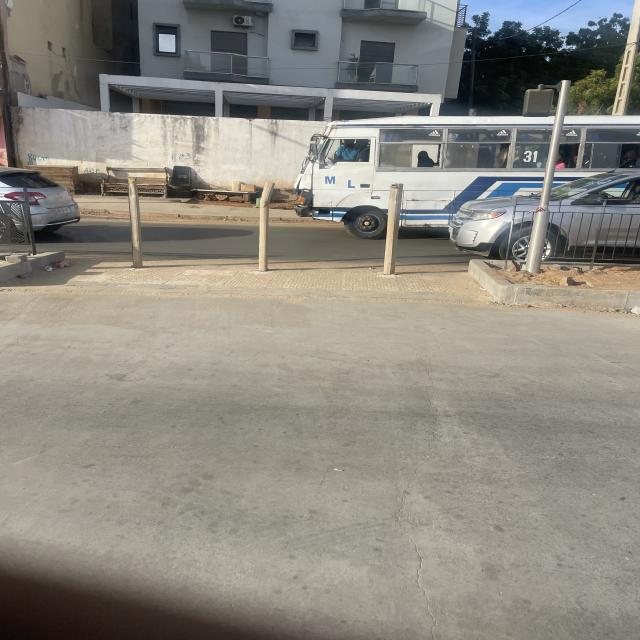bus tata: (294, 117, 554, 240), (554, 117, 640, 186)
particulier: (544, 171, 640, 264), (449, 195, 541, 264), (1, 167, 81, 232)
